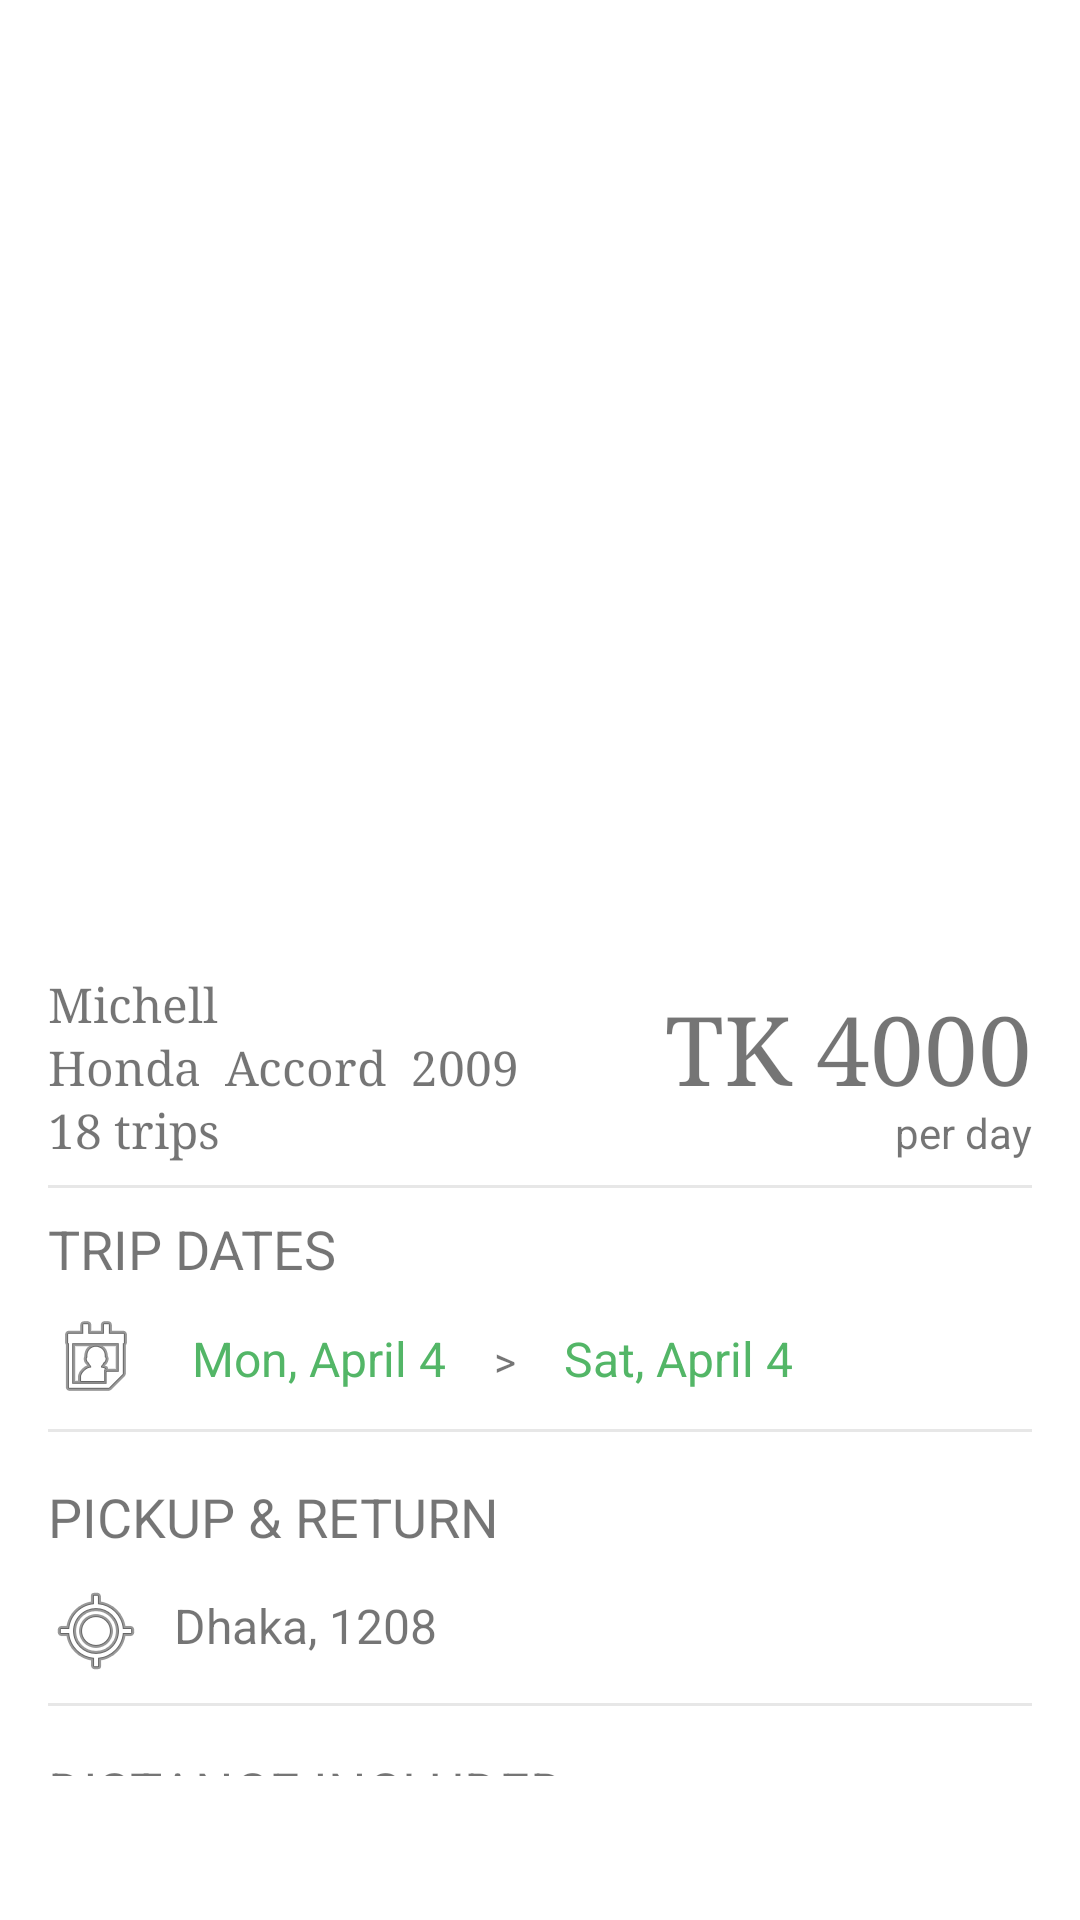

Named icons in this screenshot (1080x1920) and their centers, point (x, y):
calendar: point (96, 1356)
mylocation: point (96, 1631)
